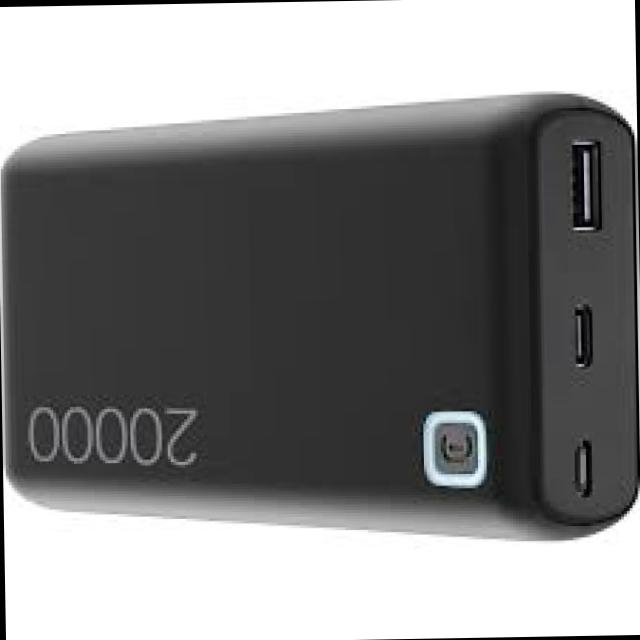portable-charger: (0, 88, 640, 557)
